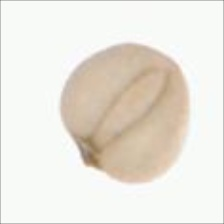L5: (86, 62, 175, 150), (69, 131, 108, 172), (152, 48, 185, 76)
L6: (58, 41, 192, 187)
